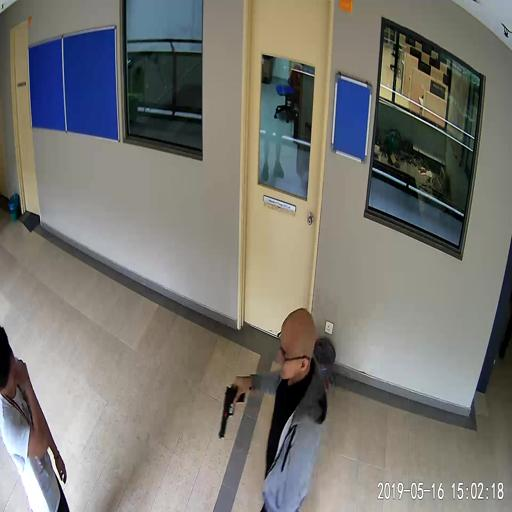pistol: (218, 383, 244, 436)
